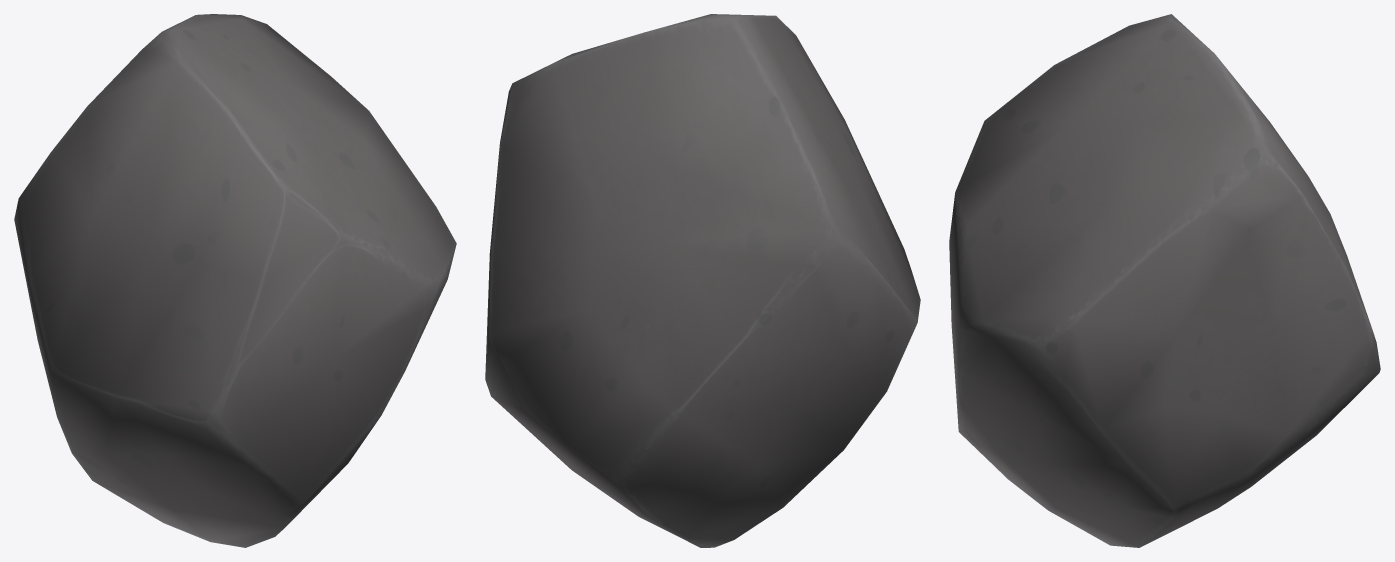
Rendered from rock01.glb.
3 views of the same model, side by side, from view 1: azimuth 30°, elevation 25°; view 2: azimuth 150°, elevation 25°; view 3: azimuth 270°, elevation 25° (orthographic). The views are drawn at different scales.
Parts seen in each view (by area): view 1: Rock01; view 2: Rock01; view 3: Rock01.
Part boxes in pixels (x1=…): Rock01: x1=14, y1=14, x2=456, y2=547; Rock01: x1=485, y1=14, x2=920, y2=547; Rock01: x1=949, y1=14, x2=1380, y2=547.
Size of what is drawn, in the model's own units: 1.82 by 2.37 by 1.82.
Materials: 1 (1 with a texture image).
